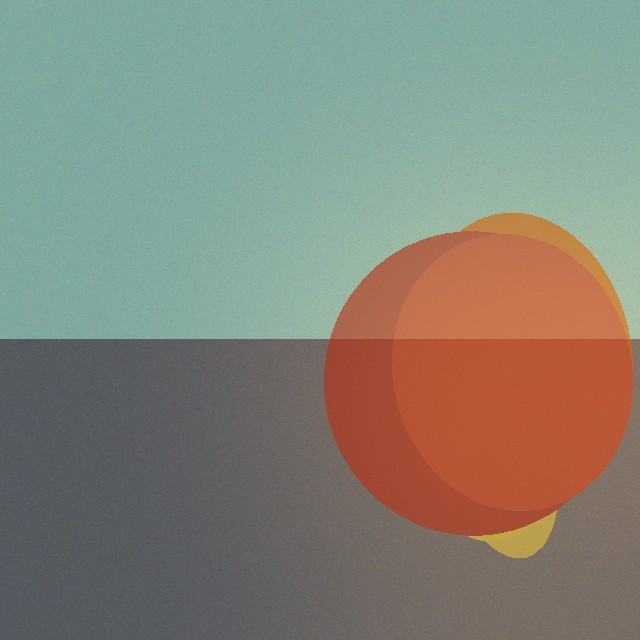fire: (414, 242, 564, 542)
